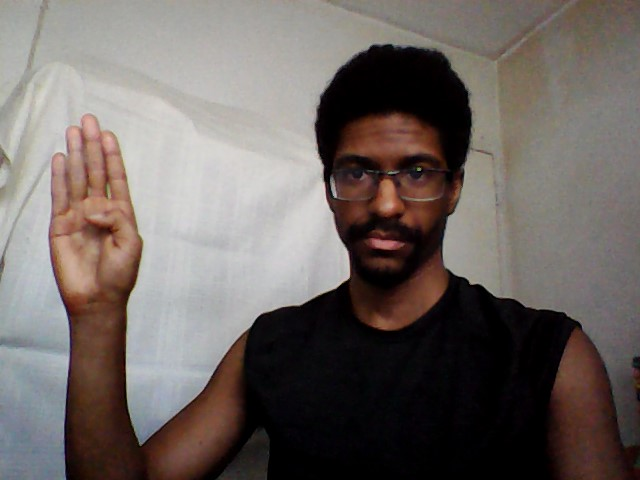b: (40, 109, 148, 306)
